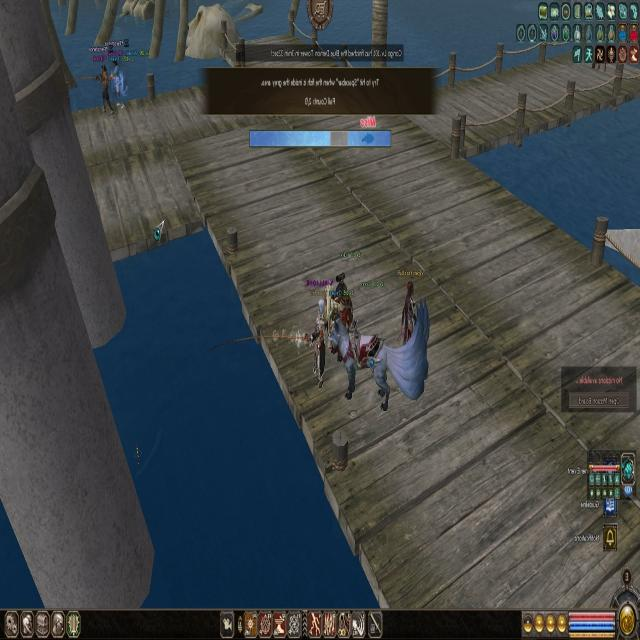fishes: (361, 133, 375, 145)
